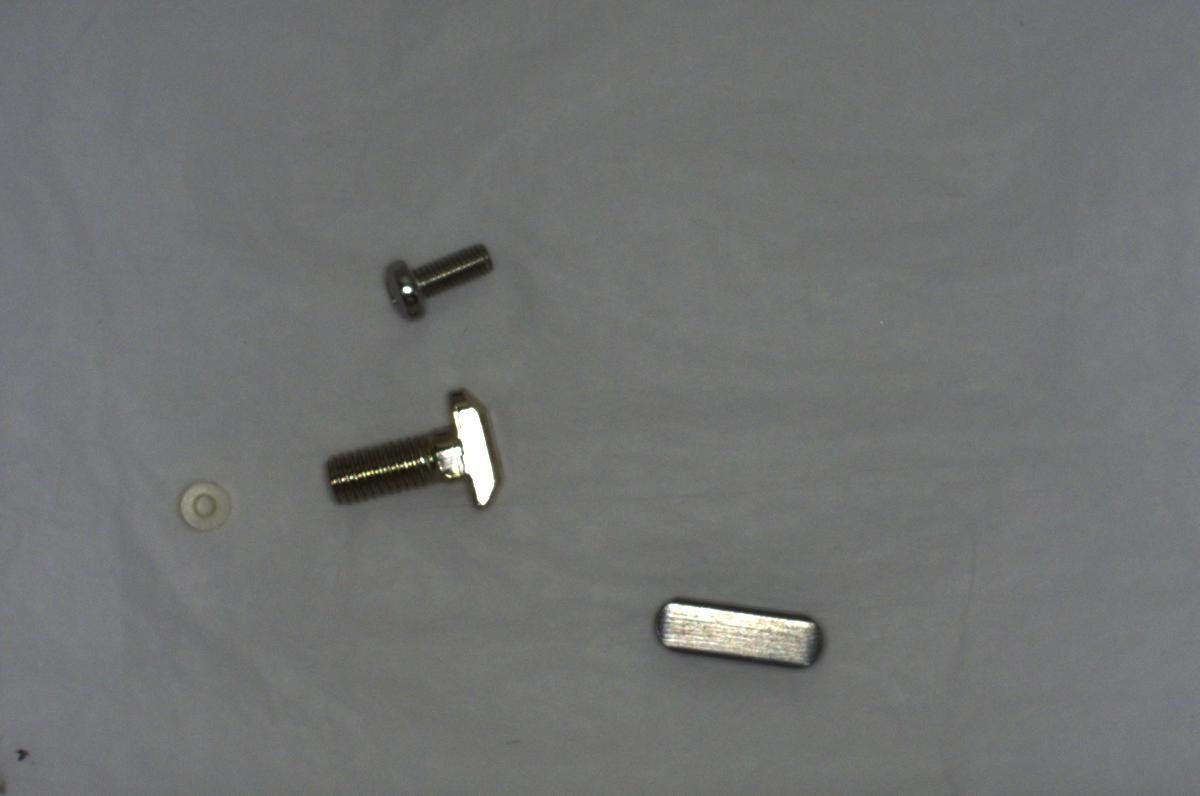Keybar: (648, 589, 825, 674)
Plastic cushion pillar: (173, 473, 235, 533)
Round head screw: (370, 233, 501, 321)
T-shaped screw: (321, 381, 504, 525)
